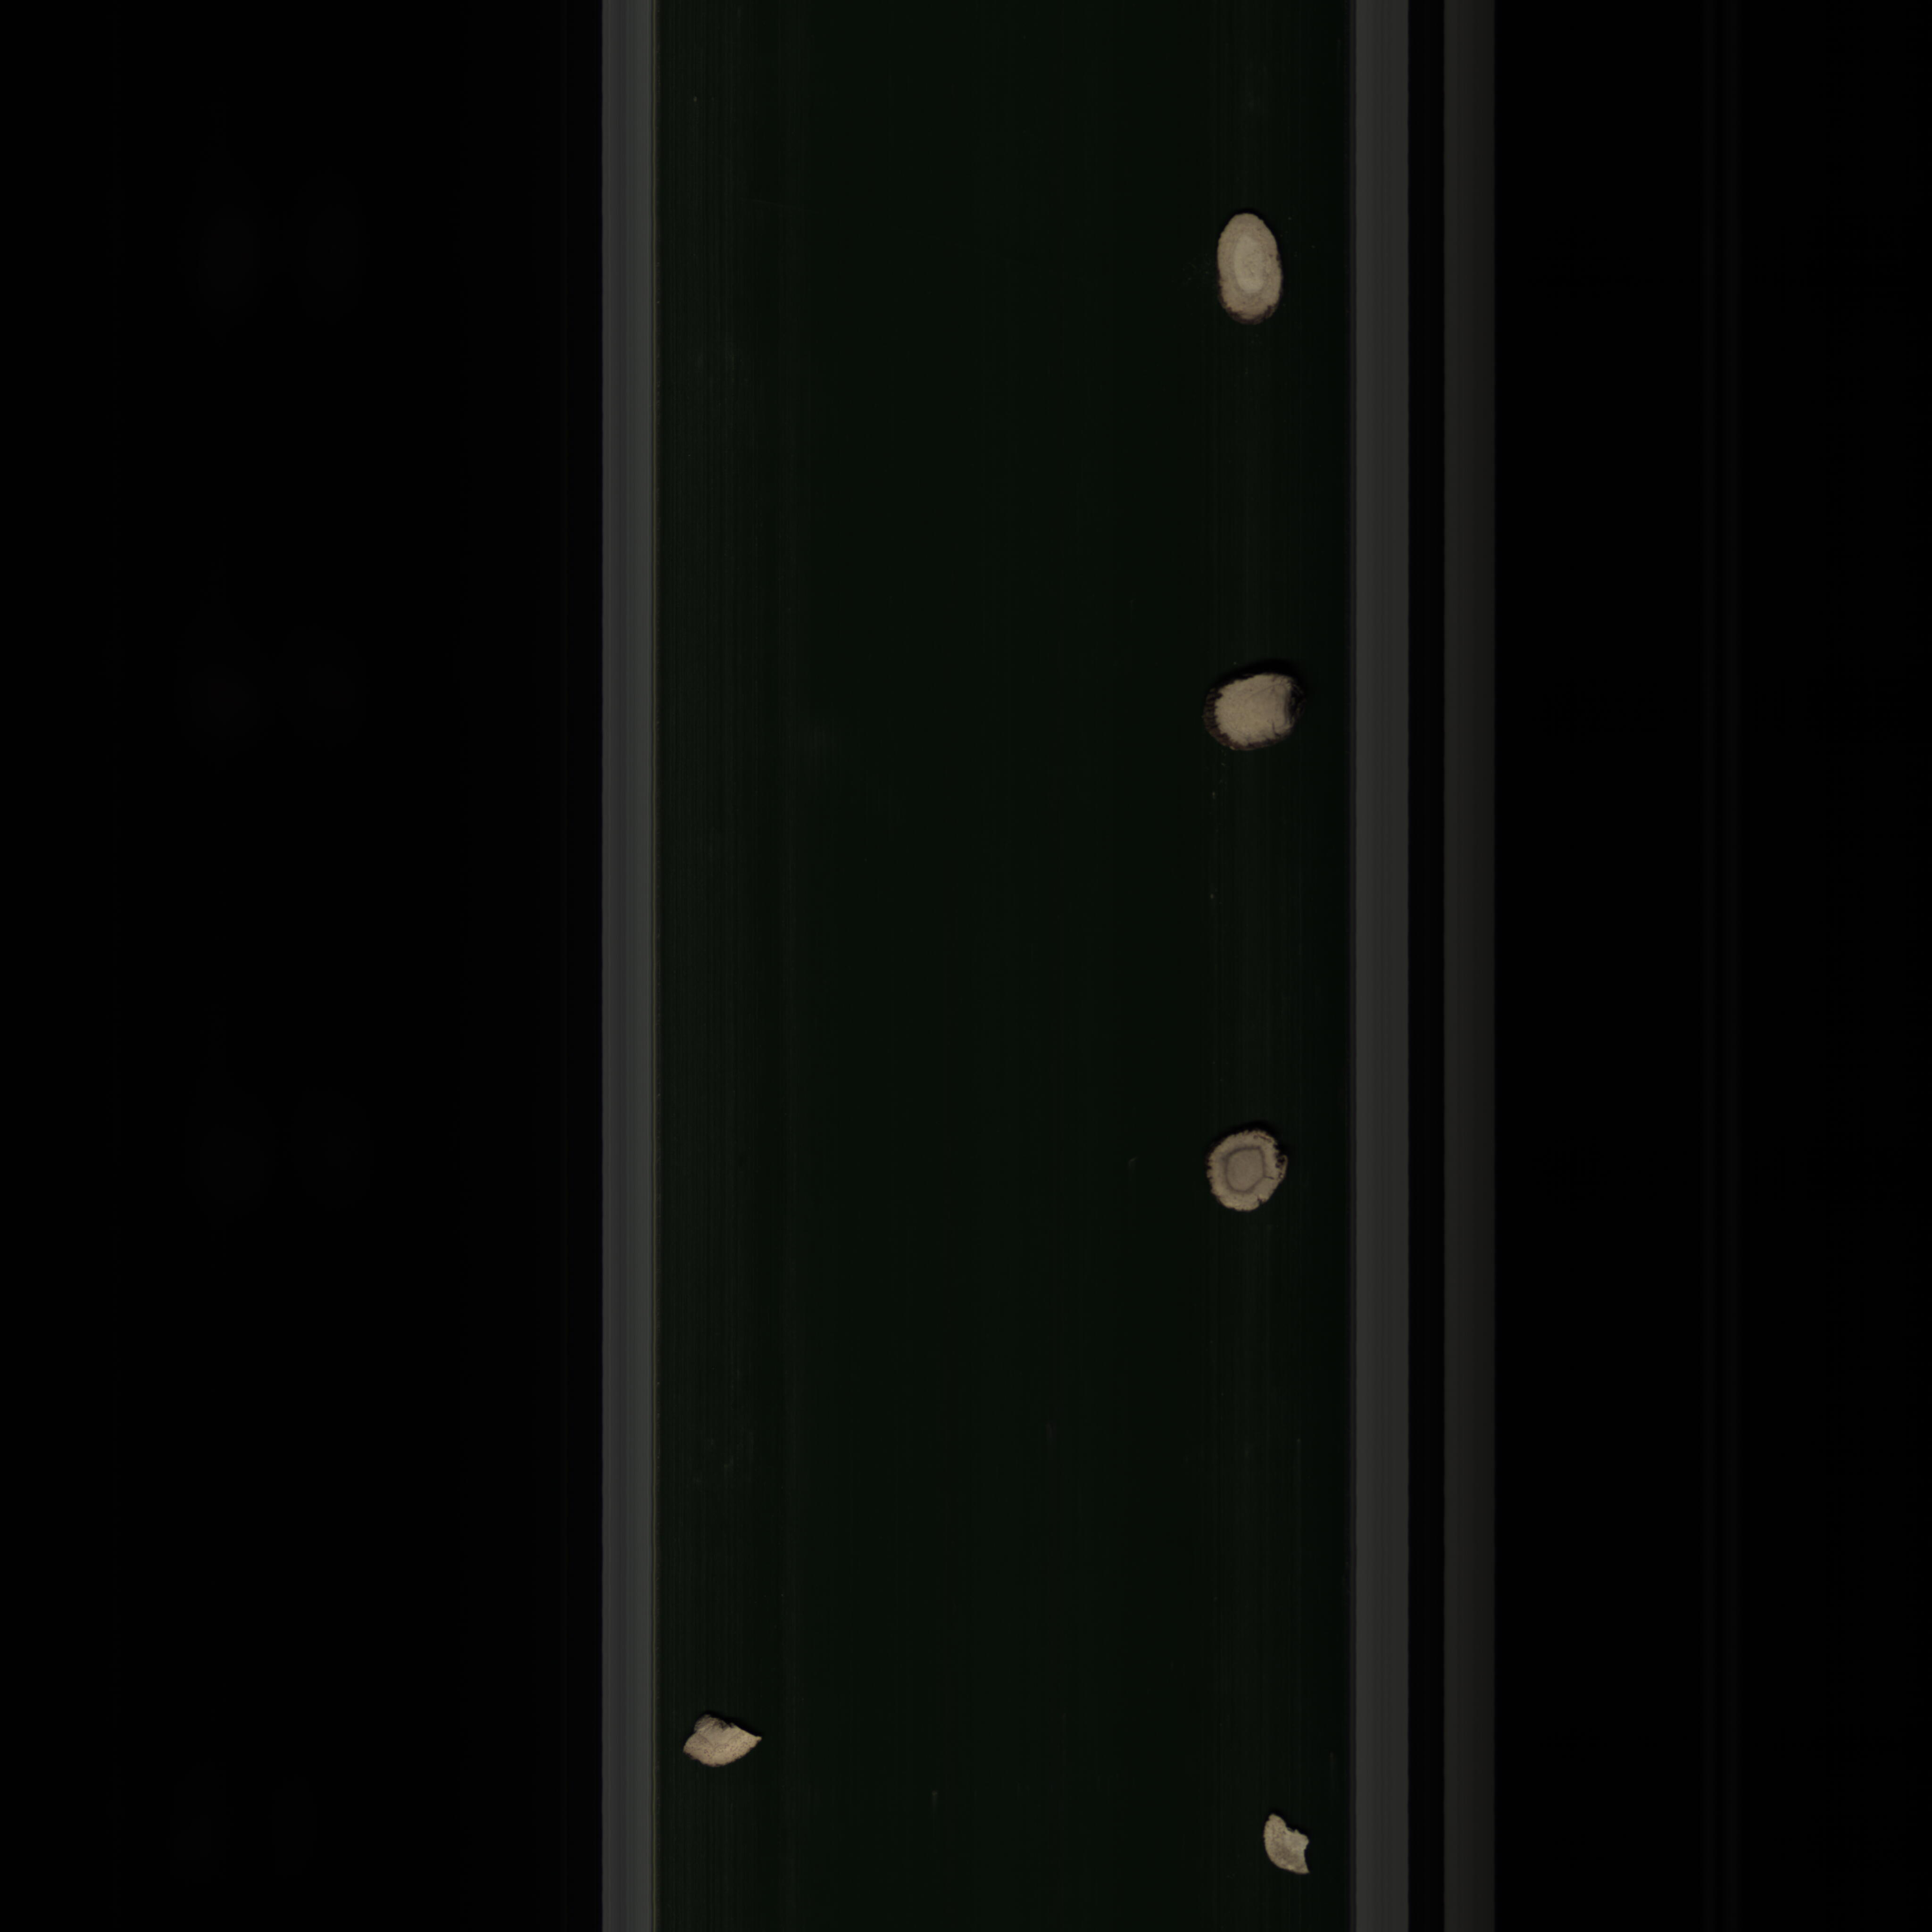debris: (678, 1704, 782, 1775), (1251, 1806, 1316, 1882)
moldy: (1198, 1123, 1304, 1221), (1200, 671, 1315, 757)
